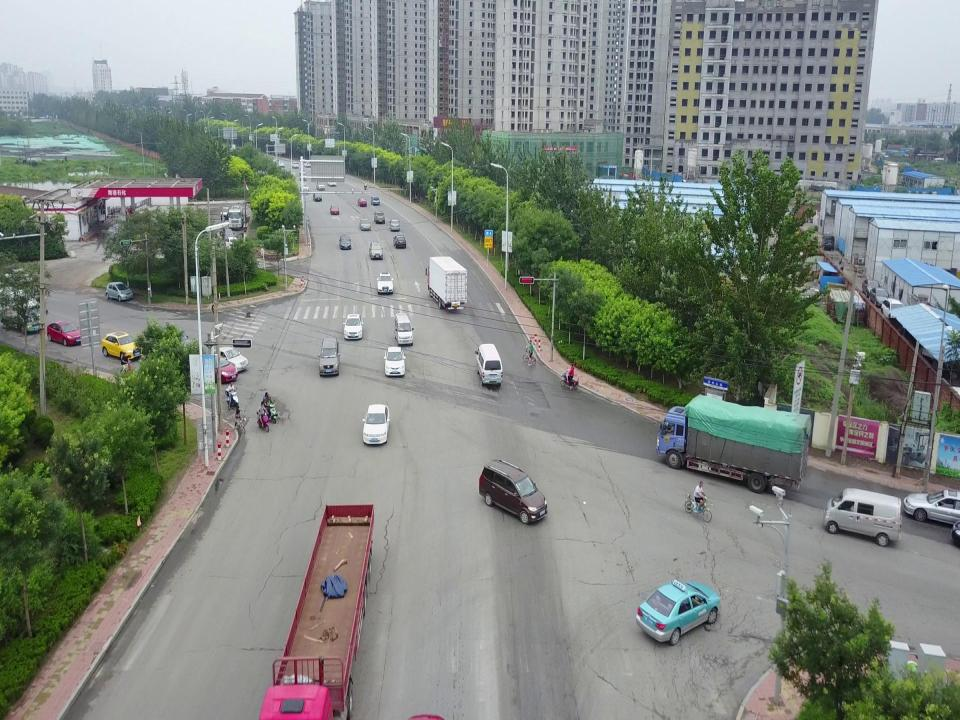bus: (0, 266, 45, 337)
car: (630, 576, 723, 648), (476, 457, 548, 527), (902, 481, 960, 521), (101, 327, 144, 360), (360, 404, 392, 448), (211, 343, 252, 374), (46, 318, 84, 350), (316, 335, 342, 379), (200, 353, 236, 383), (380, 343, 407, 380), (340, 310, 366, 343), (101, 281, 134, 305), (880, 298, 906, 320), (870, 287, 892, 308), (376, 272, 394, 296), (861, 278, 882, 298), (368, 240, 385, 262), (338, 234, 352, 251), (392, 234, 407, 249), (358, 216, 372, 231), (374, 208, 386, 225), (389, 216, 401, 233), (312, 191, 323, 206), (356, 197, 368, 210), (370, 195, 382, 208), (330, 201, 340, 216)
truck: (260, 500, 376, 720), (654, 392, 812, 491), (419, 250, 474, 316)
van: (823, 485, 903, 549), (474, 341, 504, 389), (393, 312, 417, 345), (821, 232, 835, 251)
